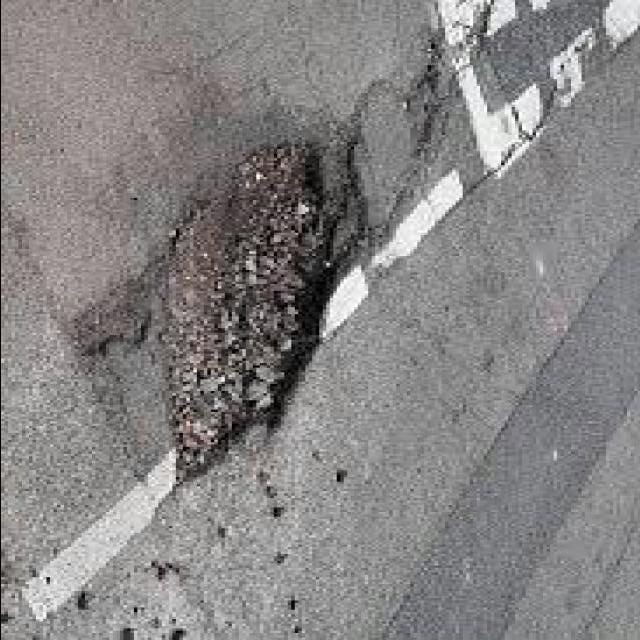pothole: (166, 72, 356, 468)
